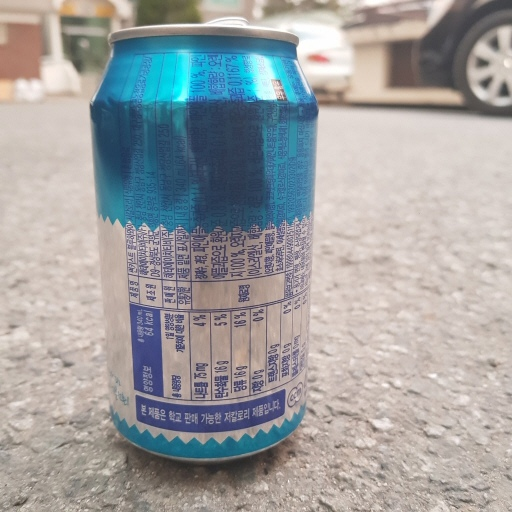Metal_0: (88, 17, 321, 462)
